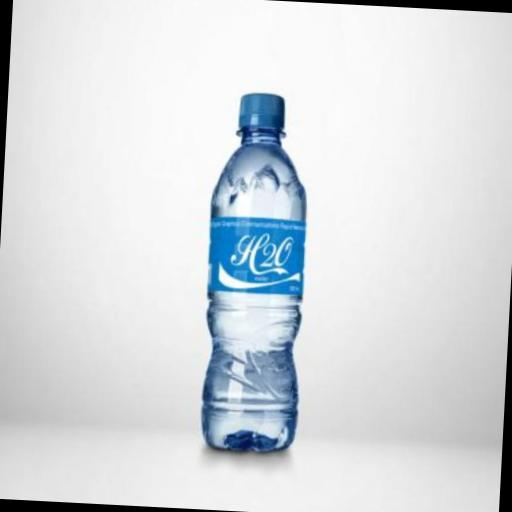Coca: (190, 76, 323, 465)
